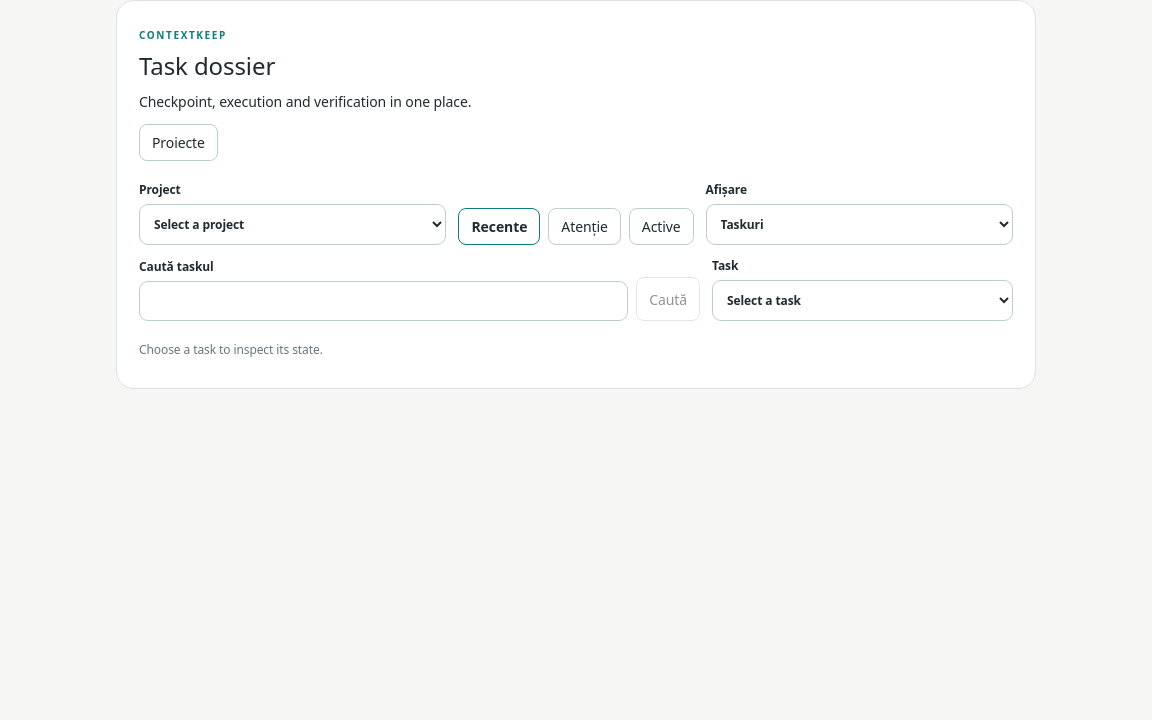
Test: shared task dossier › selects read-only context and shows execution separately from verification
Select "Synthetic" in the dropdown labelled "Project" at x=293, y=224, box [139,204,446,245]
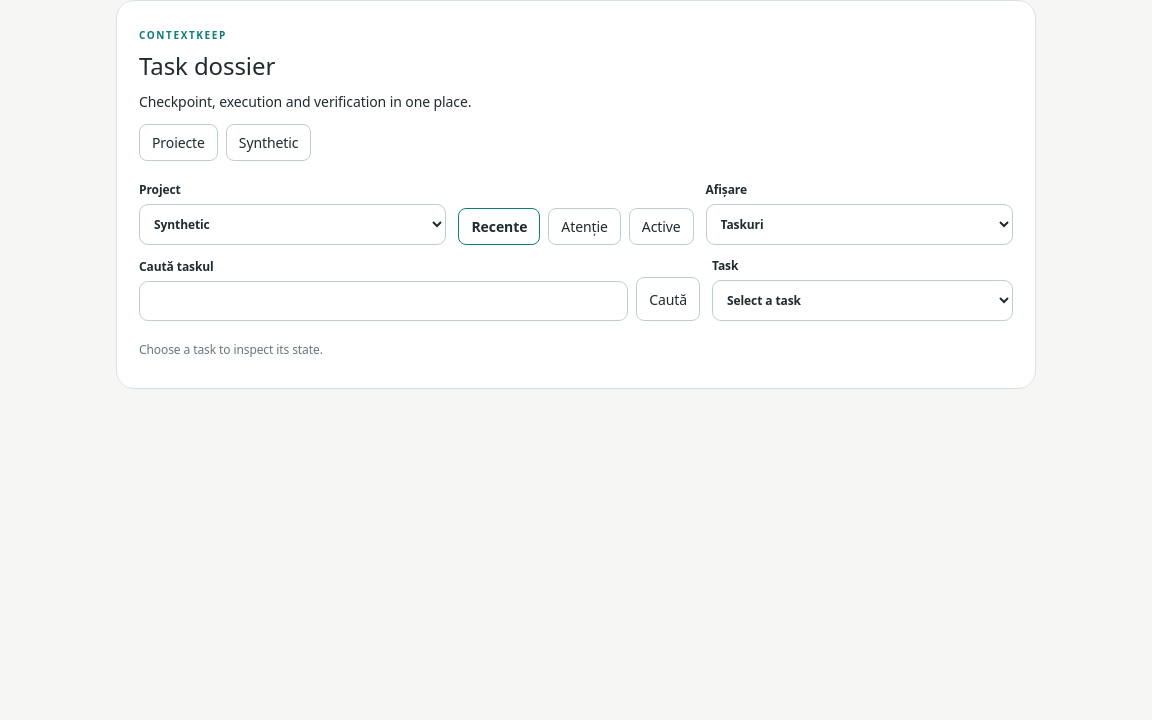
Select "Verify synthetic result · in_progress · proposed" in the dropdown labelled "Task" at x=862, y=300, box [712,280,1013,321]
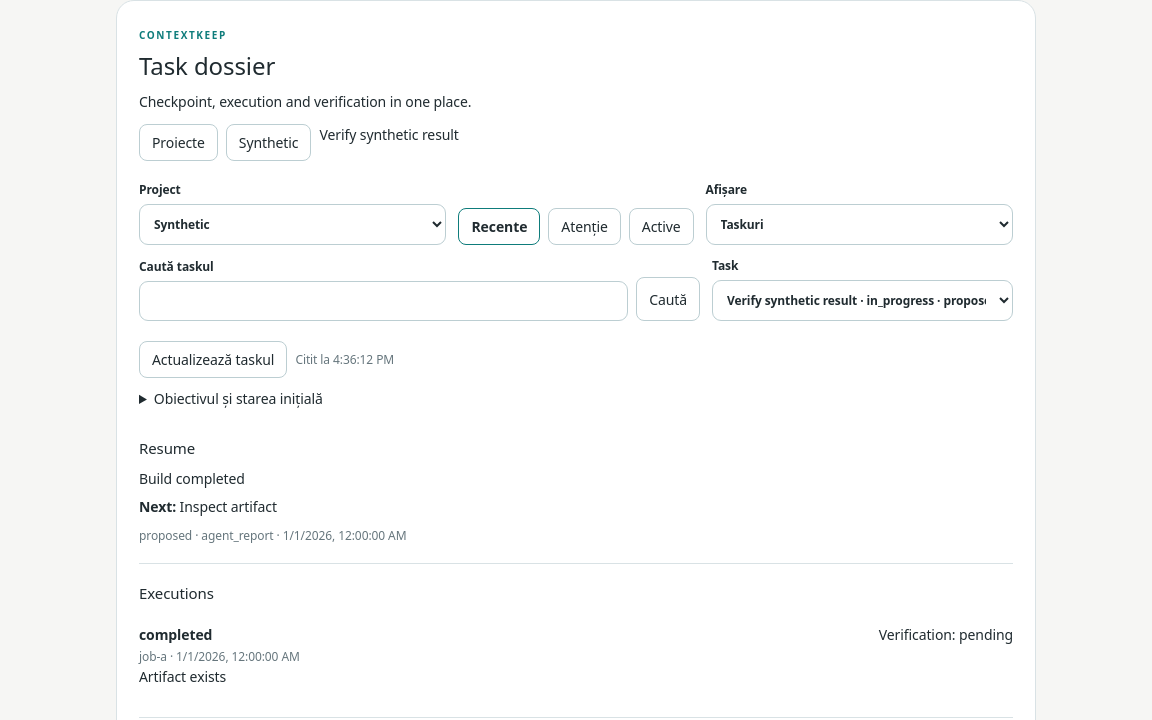
Now the text "Verification: pending" is shown, box [879,624,1013,645]
Now the text "Inspect artifact" is shown, box [180,496,277,516]
